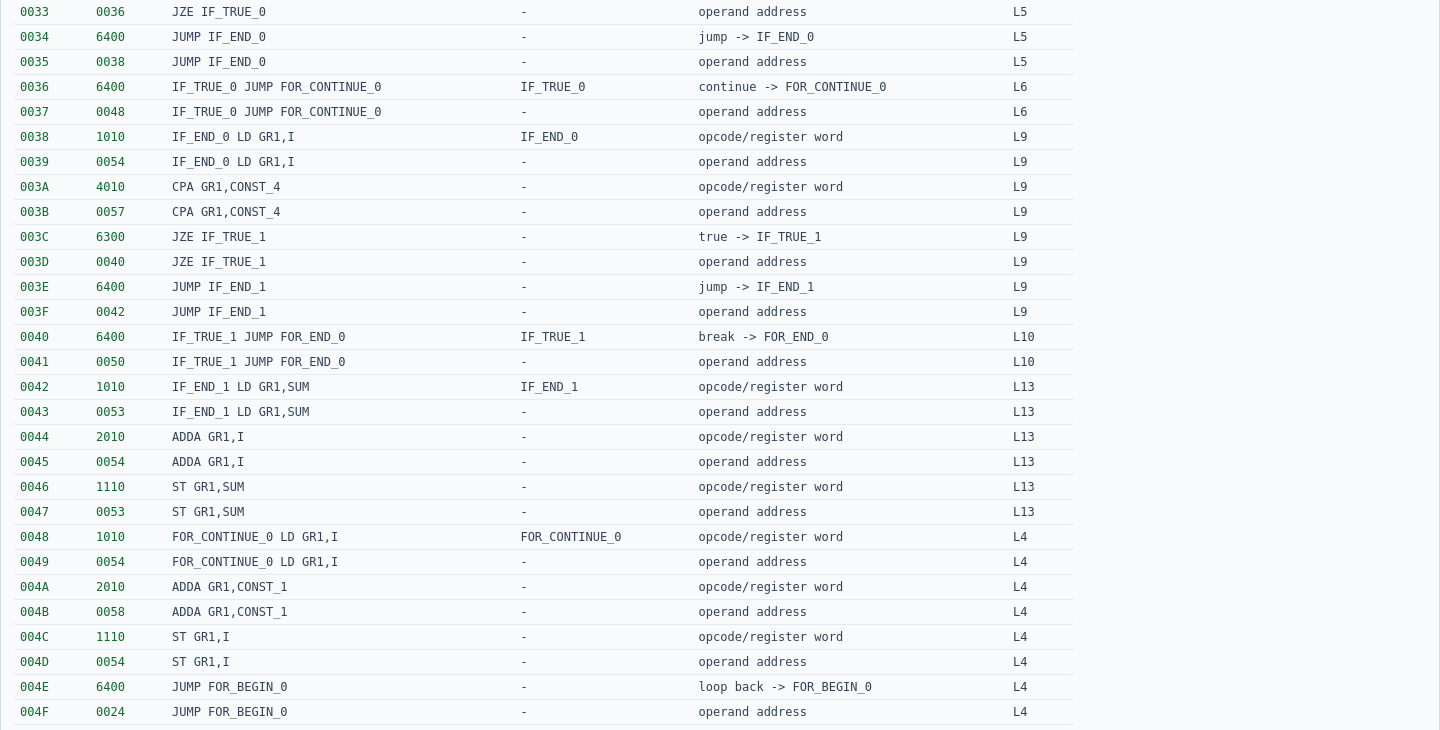
Test: machine code rows › machine_code_jump_explanation_for_break
(page scrolled)
Click the button with aria-label "Select machine word 6400 at 0040 from IF_TRUE_1 JUMP FOR_END".
click(544, 338)  # box x1=13 y1=326 x2=1074 y2=350
(page scrolled)
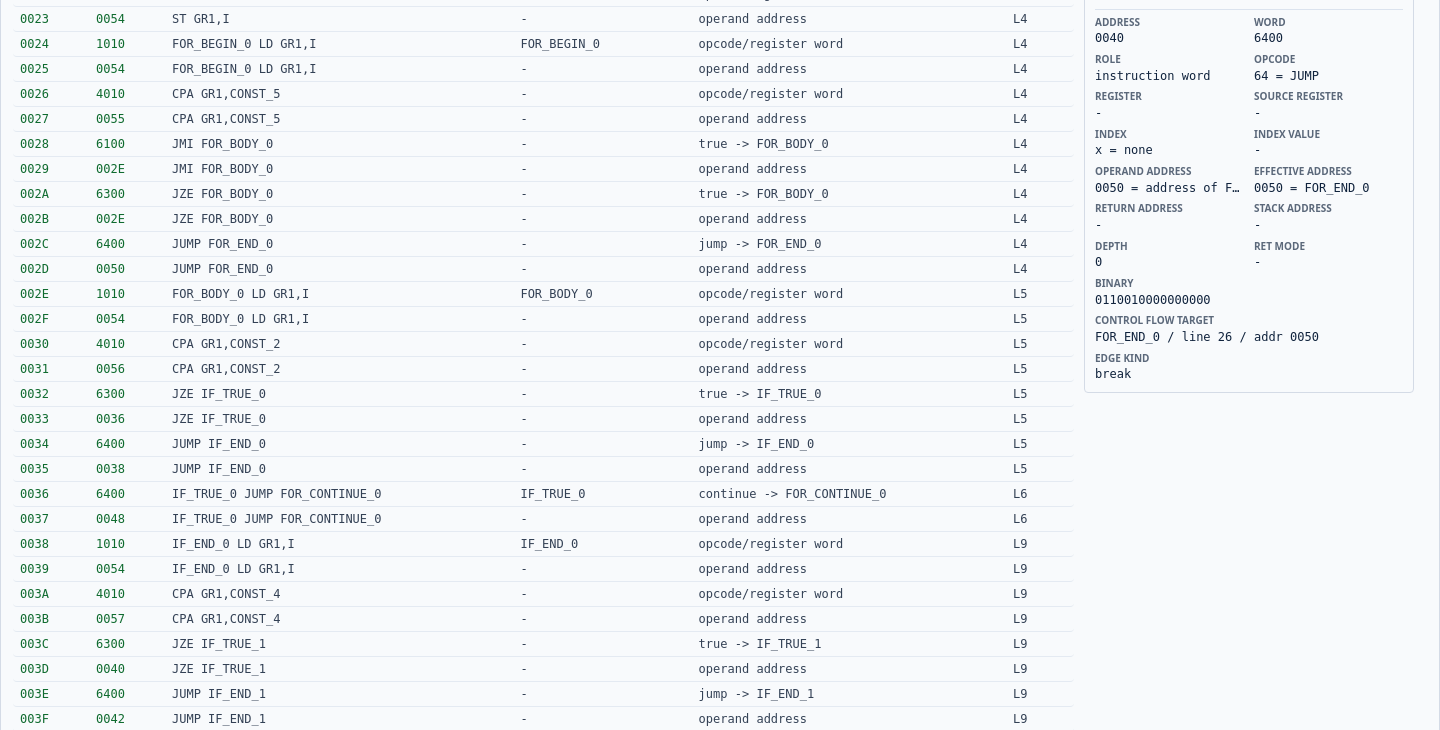
Now the text with test id "machine-code-control-flow-target" shows "FOR_END_0", box x1=1095 y1=330 x2=1319 y2=344
